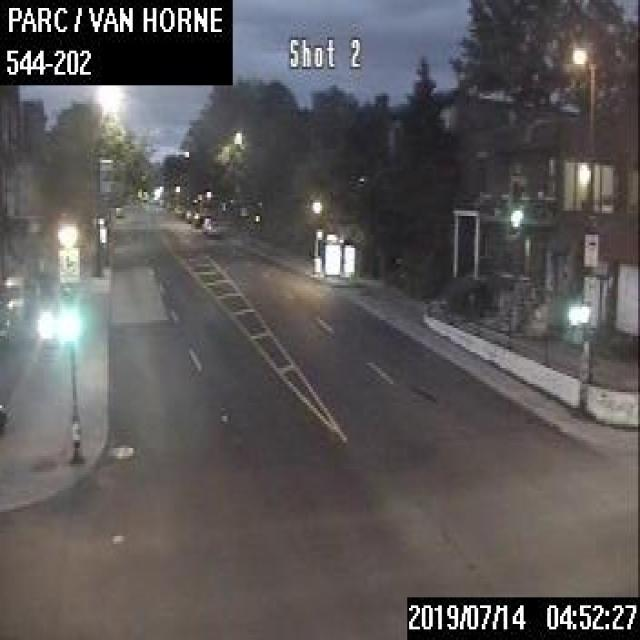vehicle: (0, 272, 31, 323), (200, 216, 220, 233), (0, 398, 7, 433), (192, 210, 209, 224), (183, 207, 196, 218)
